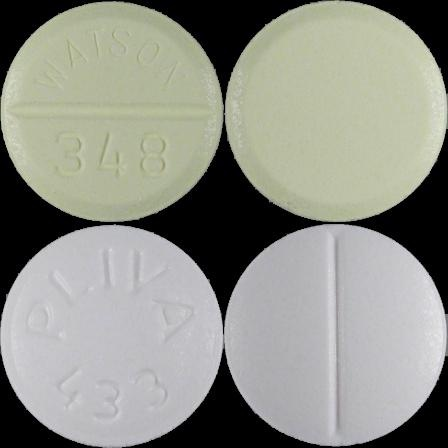51655-631: (0, 0, 224, 224)
